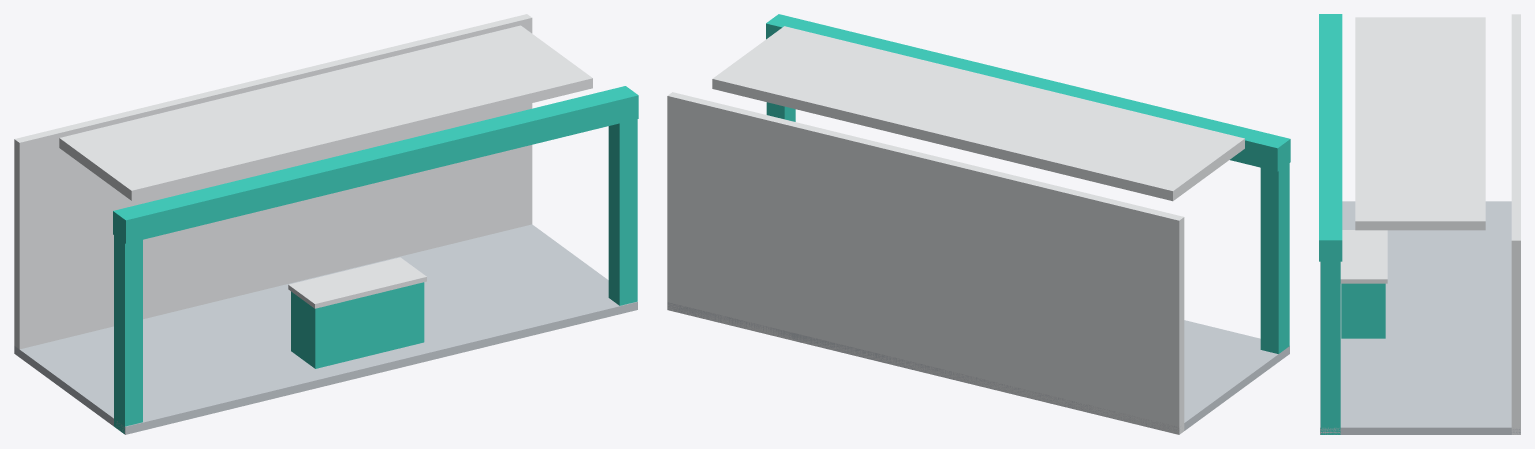
The picture shows the model from 3 angles, left to right: view 1: azimuth 30°, elevation 25°; view 2: azimuth 150°, elevation 25°; view 3: azimuth 270°, elevation 25°; orthographic projection. The views are drawn at different scales.
Parts seen in each view (by area): view 1: Exhibition Booth Concept; view 2: Exhibition Booth Concept; view 3: Exhibition Booth Concept.
Boxes of the visible parts, x1,y1,x2,y2 form: Exhibition Booth Concept: [14, 14, 638, 434]; Exhibition Booth Concept: [667, 14, 1290, 434]; Exhibition Booth Concept: [1319, 14, 1520, 434].
Size of the model in its own units: 8 by 3.34 by 3.01.
